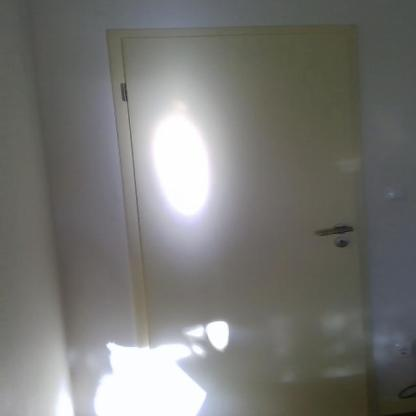door: (96, 21, 373, 416)
